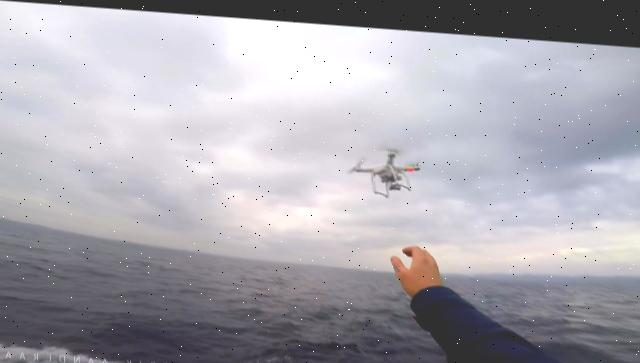drone: (348, 135, 424, 196)
